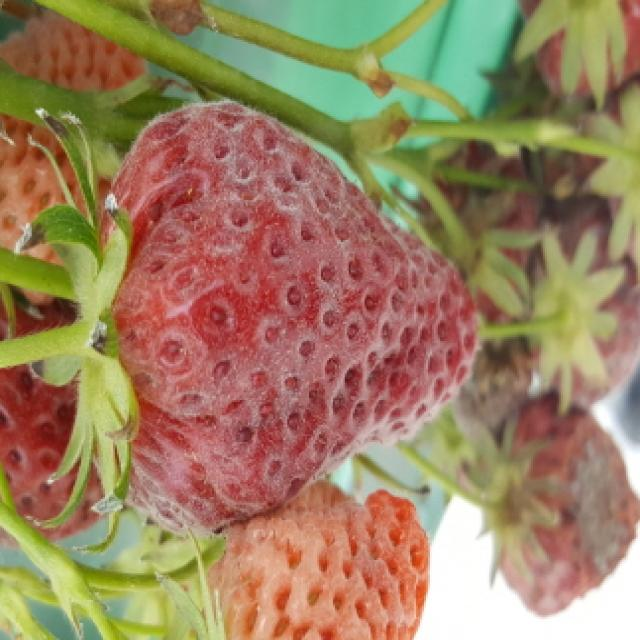Powdery Mildew Fruit: (79, 99, 483, 537)
